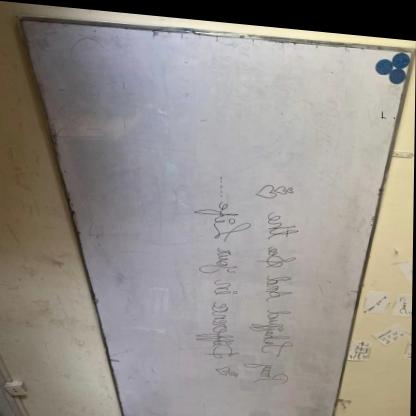Handwritten text: (189, 188, 255, 361), (248, 199, 304, 385)
Whiteboard: (0, 17, 415, 416)
